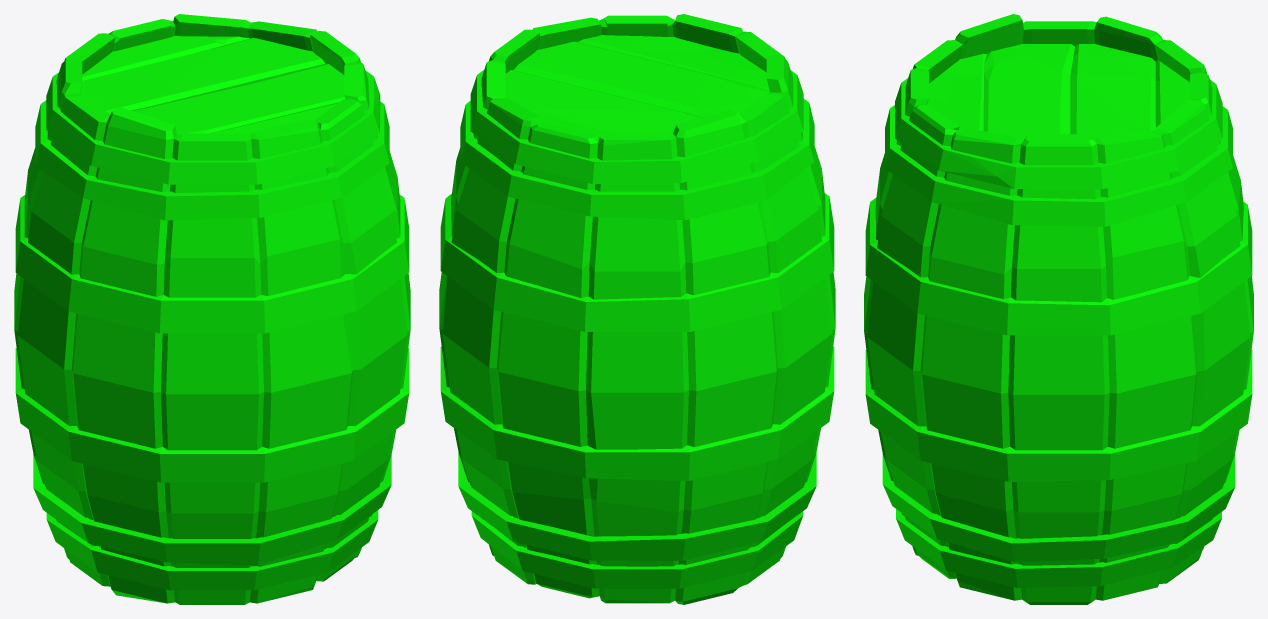
Rendered from SM_Barrel_Wood_Explosive_Fantasy.fbx.
The picture shows the model from 3 angles, left to right: view 1: azimuth 30°, elevation 25°; view 2: azimuth 150°, elevation 25°; view 3: azimuth 270°, elevation 25°; orthographic projection.
Visible parts, largest first — view 1: barrel-wood-explosive-fantasy; view 2: barrel-wood-explosive-fantasy; view 3: barrel-wood-explosive-fantasy.
Boxes of the visible parts, <box> form: barrel-wood-explosive-fantasy: <box>14,14,410,604</box>; barrel-wood-explosive-fantasy: <box>439,14,835,604</box>; barrel-wood-explosive-fantasy: <box>864,14,1253,604</box>.
Bounding box in the file's own units: 0.9461 × 1.27 × 0.9461.
